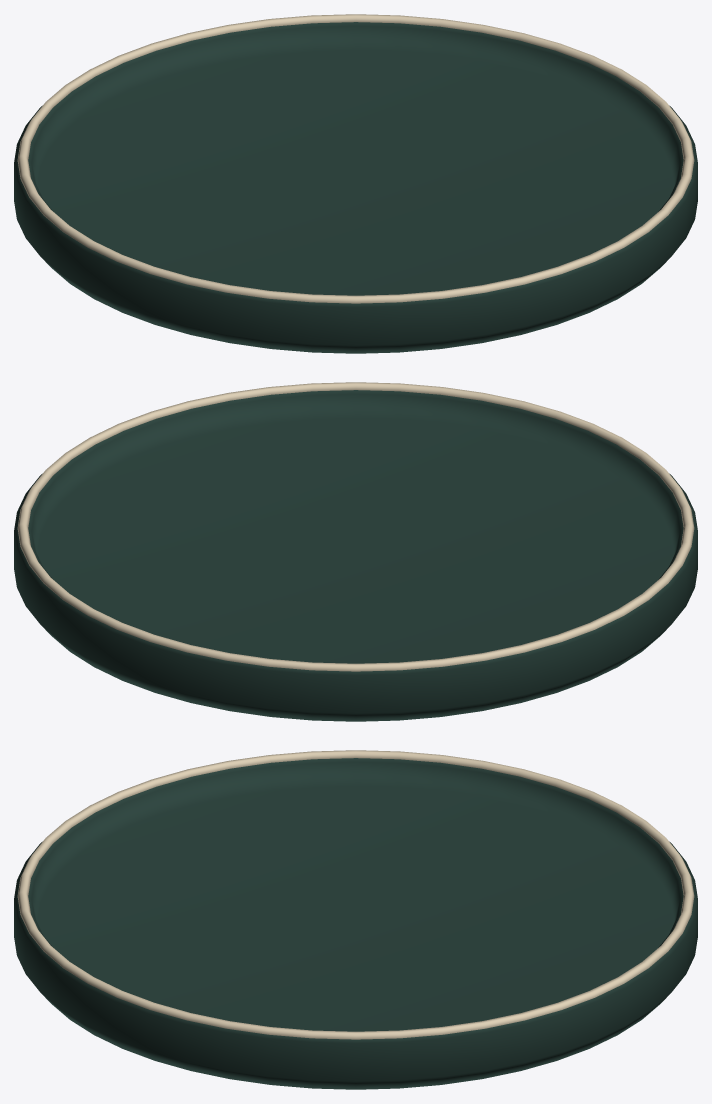
3 renders of one model, top to bottom at view 1: azimuth 30°, elevation 25°; view 2: azimuth 150°, elevation 25°; view 3: azimuth 270°, elevation 25°, orthographic.
Visible parts, largest first — view 1: Bandeja de mozo / borde elevado; view 2: Bandeja de mozo / borde elevado; view 3: Bandeja de mozo / borde elevado.
Boxes of the visible parts, x1,y1,x2,y2 form: Bandeja de mozo / borde elevado: [14, 14, 697, 353]; Bandeja de mozo / borde elevado: [14, 382, 697, 721]; Bandeja de mozo / borde elevado: [14, 750, 697, 1089].
Size of the model in its own units: 0.2298 by 0.0216 by 0.2298.
